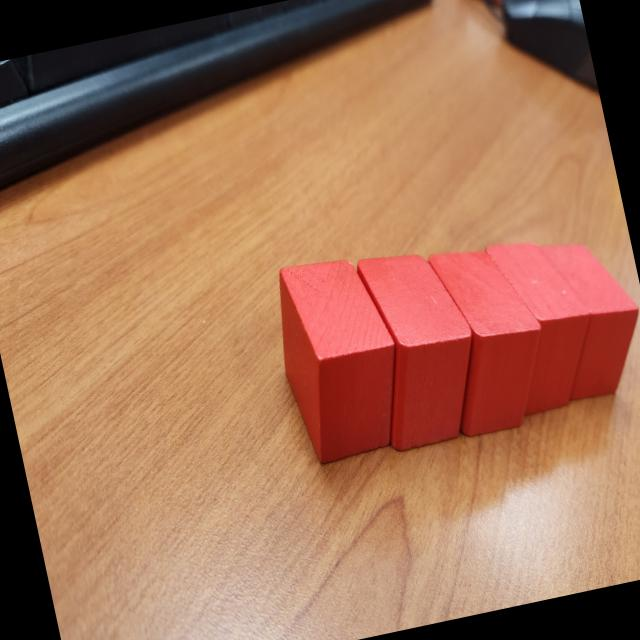red: (258, 244, 418, 471), (352, 238, 494, 454), (420, 234, 560, 441), (482, 226, 608, 418), (537, 229, 640, 401)
